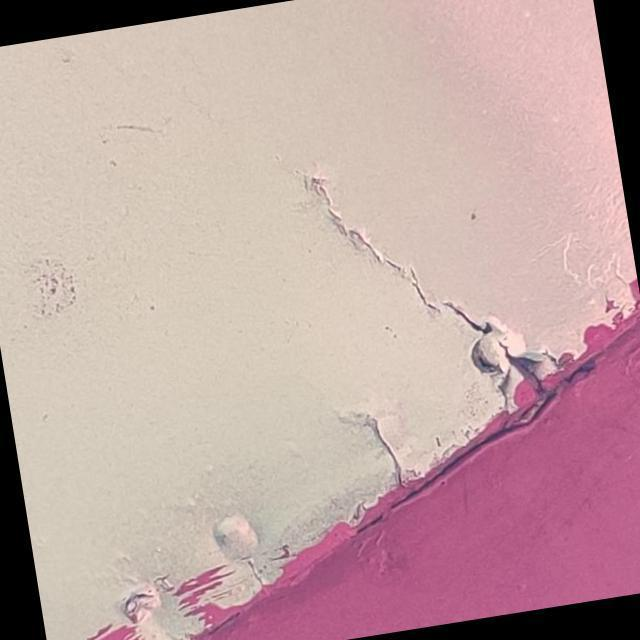Rupture: (288, 116, 590, 466), (339, 390, 431, 512)
